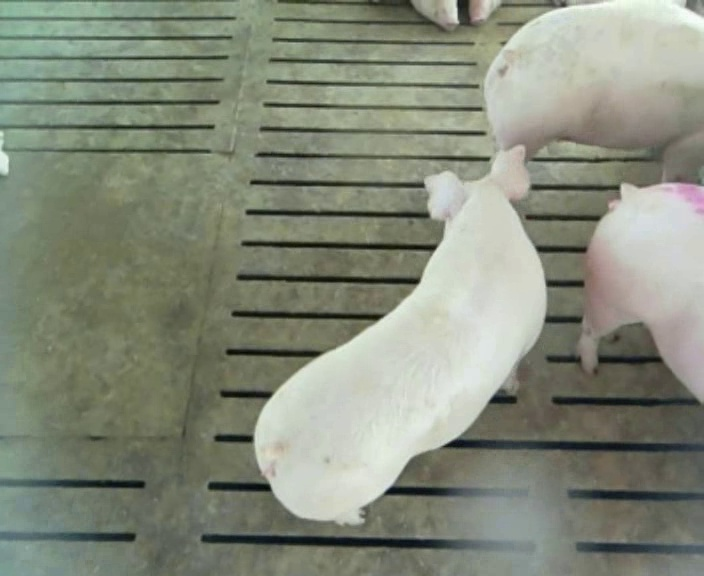pig: (254, 146, 545, 523), (485, 3, 703, 179), (578, 183, 703, 402)
